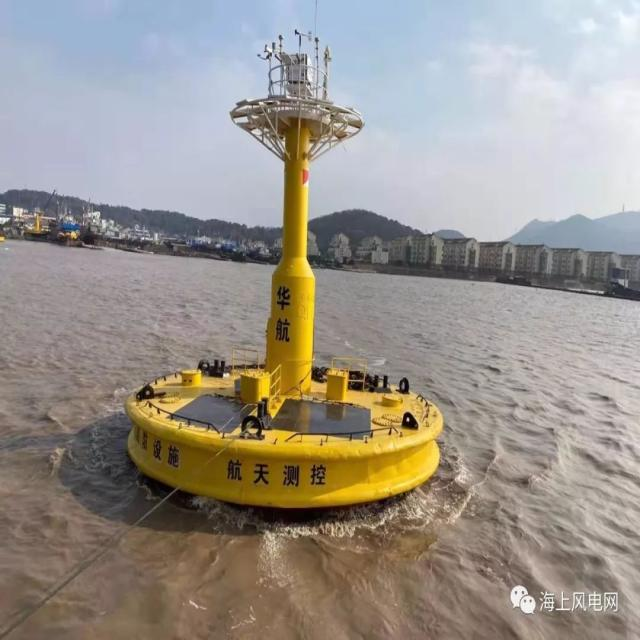buoy: (121, 25, 443, 512)
